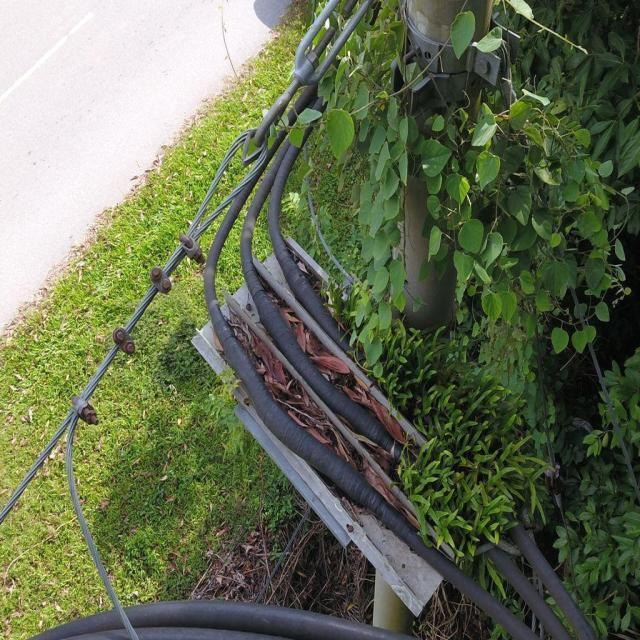critical vegetation: (263, 53, 606, 572)
